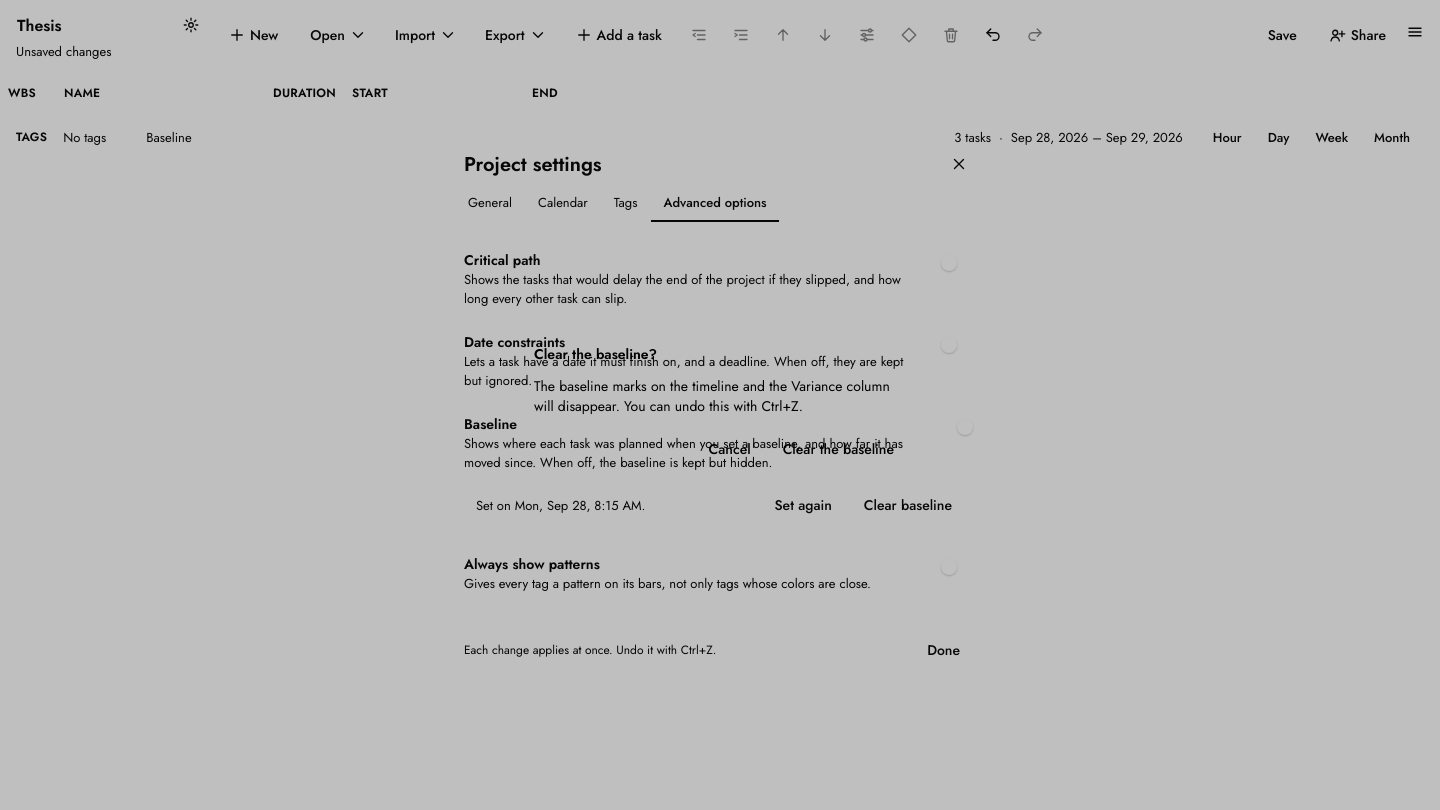
Test: the baseline in the Advanced options tab › asks before clearing the baseline, keeping undo away from the question
expect the heading "Clear the baseline?" is shown: met, box [534,344,657,364]
expect the button with class "danger" reads "Clear the baseline": met, box [771,432,906,466]
Press z in the dialog with class "confirm", box [510,320,930,490]
Press Y in the dialog with class "confirm", box [510,320,930,490]
Click the button with class "danger": (838, 449) [771,432,906,466]
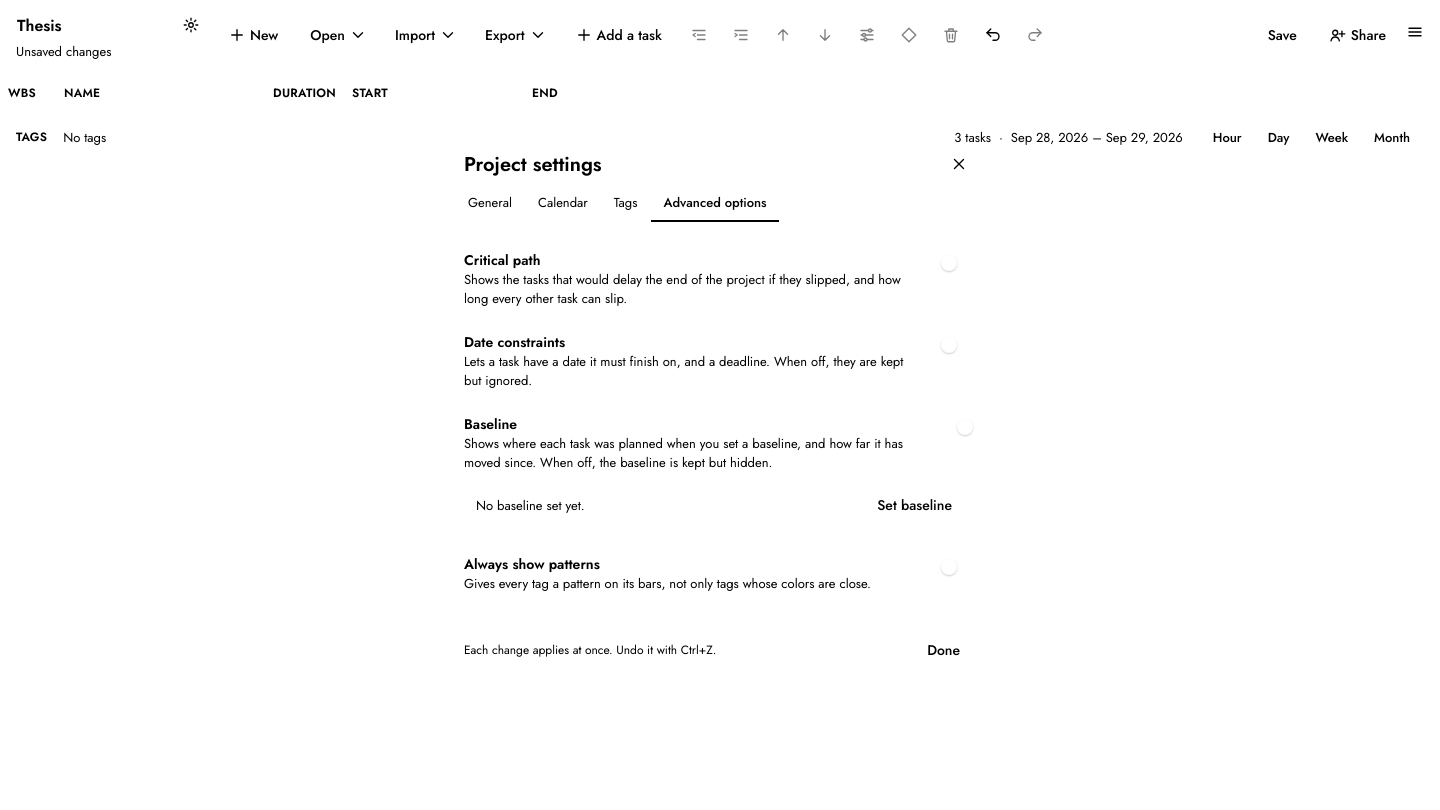
expect the text with class "when" reads "No baseline set yet.": met, box [476,496,585,514]
